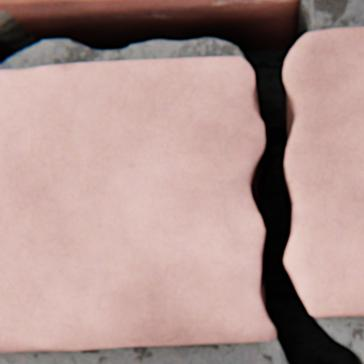brick: (0, 0, 293, 12)
broken_brick: (0, 58, 275, 352), (284, 29, 363, 317)
crack: (0, 0, 363, 363)
